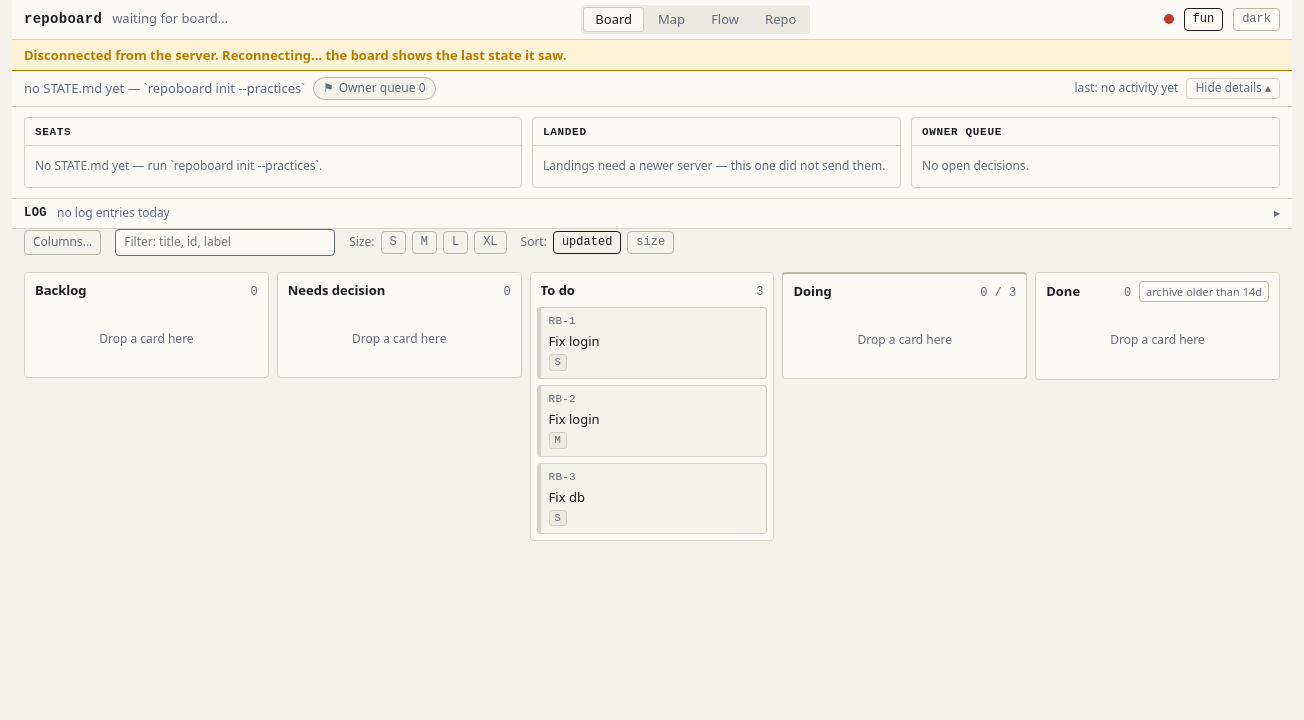
BoardTools: search box › a size filter and a query intersect (neither alone gives this result)
Click the button with test id "size-filter-S".
click(393, 242)  # box [380,231,406,254]
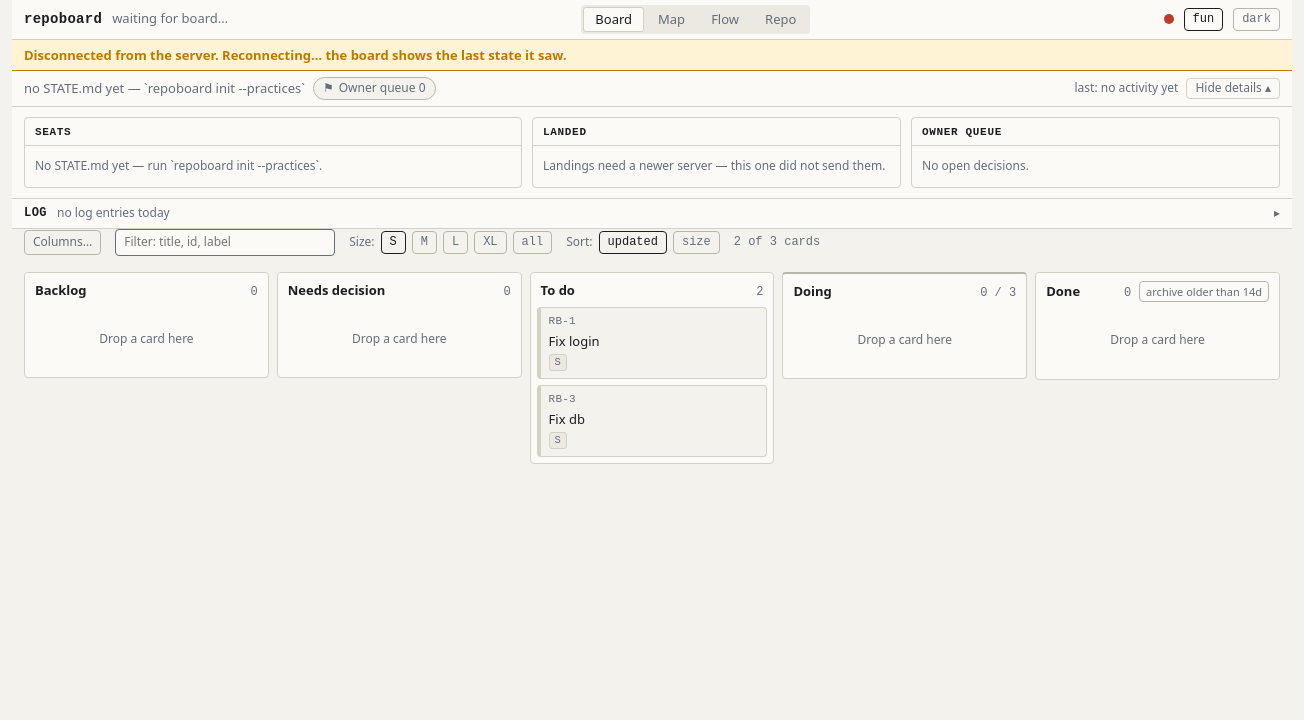
Type "login" into the search field with test id "board-search".
click(225, 242); type("login")  # box [115,229,335,256]
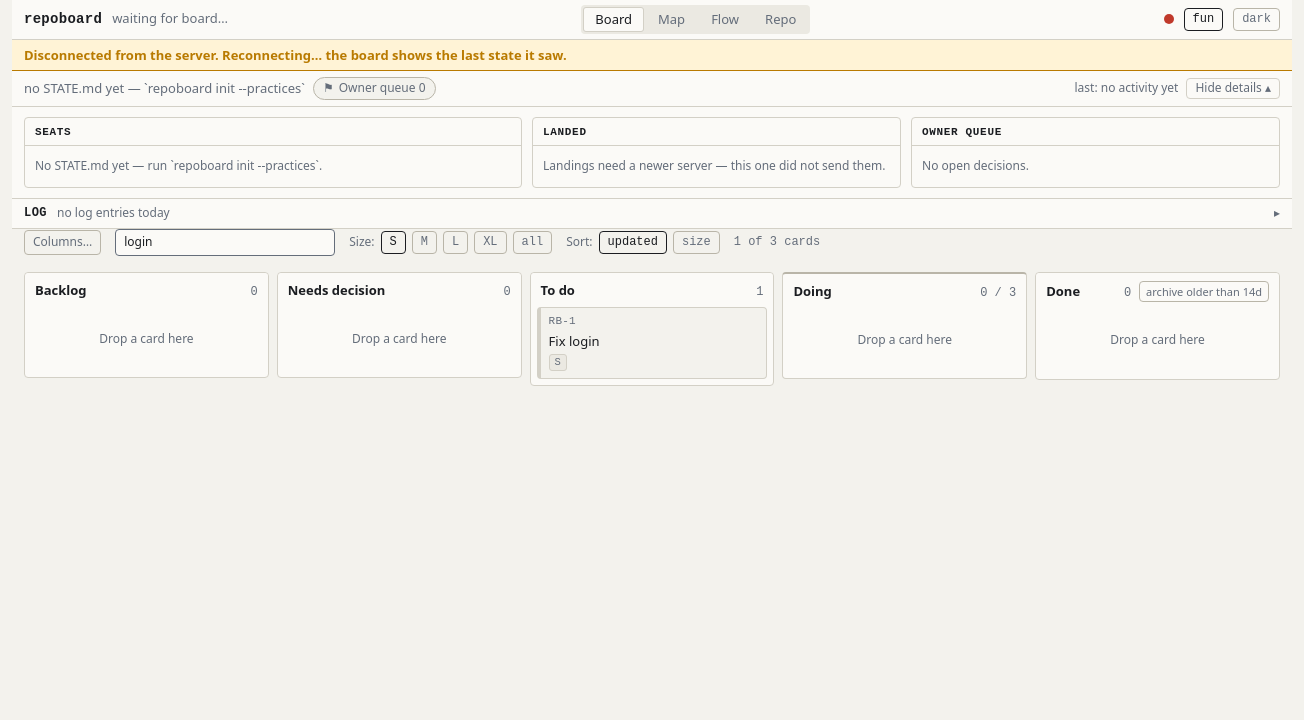
Check: the button with test id "card-RB-1" is shown, box [537,307,767,379]
Check: the text "1 of 3 cards" is shown, box [734,234,820,251]
Check: the button with test id "card-RB-3" is gone
